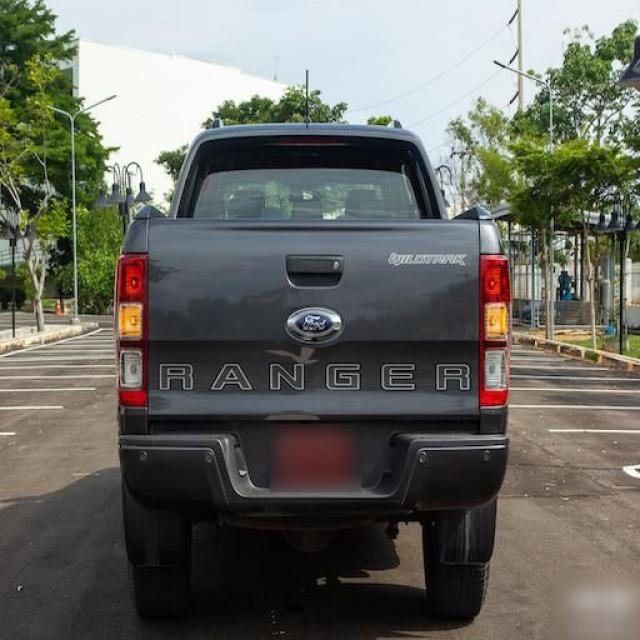back_bumper: (120, 433, 510, 516)
back_glass: (188, 149, 428, 221)
back_left_light: (114, 252, 149, 404)
back_right_light: (480, 254, 513, 405)
trunk: (148, 218, 481, 420)
wheel: (420, 529, 488, 617), (129, 560, 192, 616)
